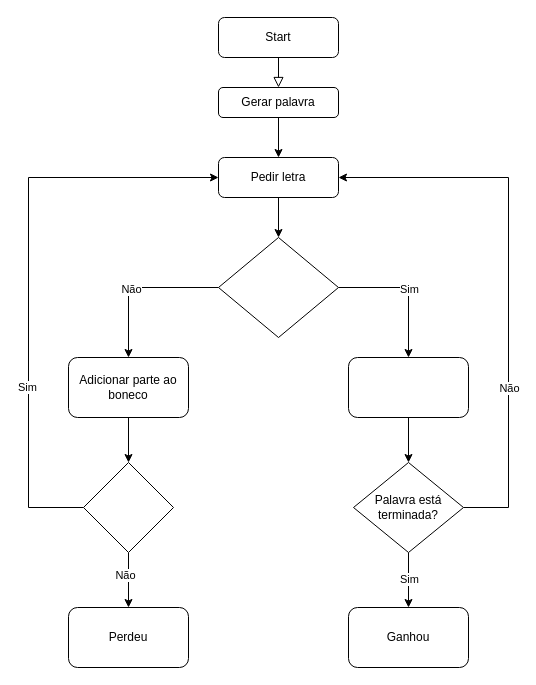
Some shapes in this 536 by 685 pixel diagram are drawn without their labels. Here are the shapes that lost their labels. From the top down, the centre of each, then its label:
the point at 278,287: A letra existe na palavra?
the point at 408,387: Adicionar letra nos espaços correspondentes
the point at 128,507: Há mais jogadas?
